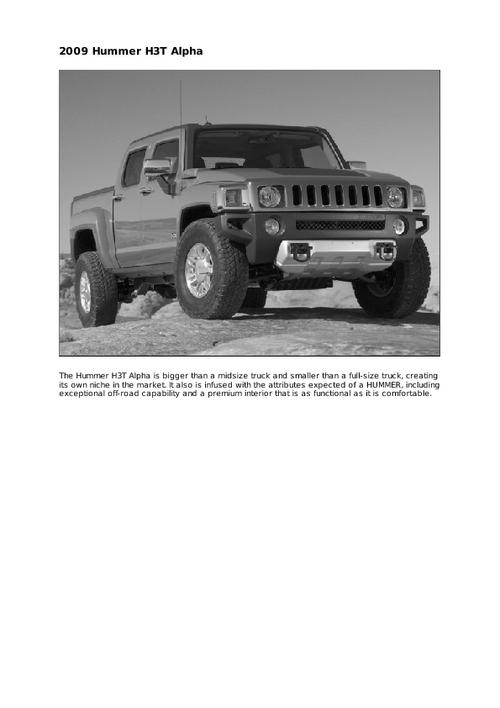car: (68, 120, 433, 330)
